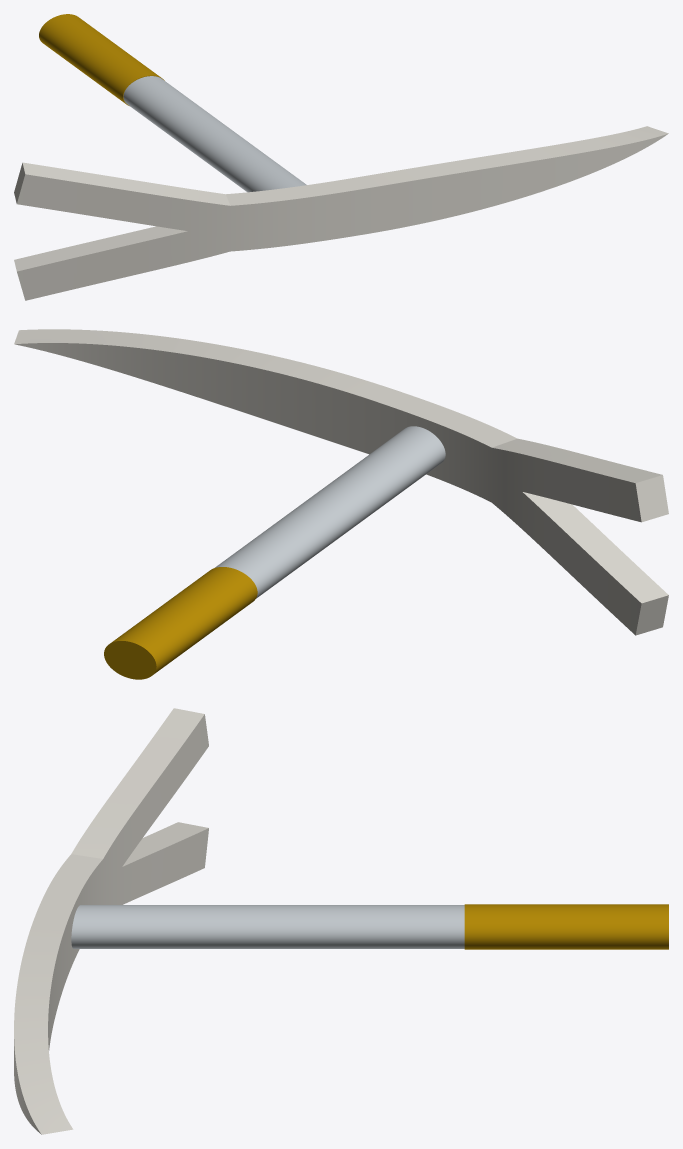
File: pickaxe_blender.gltf
3 views of the same model, one above another, from view 1: azimuth 30°, elevation 25°; view 2: azimuth 150°, elevation 25°; view 3: azimuth 270°, elevation 25° (orthographic). The views are drawn at different scales.
Parts seen in each view (by area): view 1: PickaxeHoofd, Steel, Handvat; view 2: PickaxeHoofd, Steel, Handvat; view 3: PickaxeHoofd, Steel, Handvat.
Part boxes in pixels (<box>): PickaxeHoofd: <box>14,126,668,300</box>; Steel: <box>123,76,306,192</box>; Handvat: <box>39,14,164,105</box>; PickaxeHoofd: <box>14,329,668,635</box>; Steel: <box>215,426,445,598</box>; Handvat: <box>104,567,257,679</box>; PickaxeHoofd: <box>14,708,208,1134</box>; Steel: <box>71,905,464,948</box>; Handvat: <box>464,904,668,949</box>.
Bounding box in the file's own units: 1.23 × 0.2495 × 0.962.
